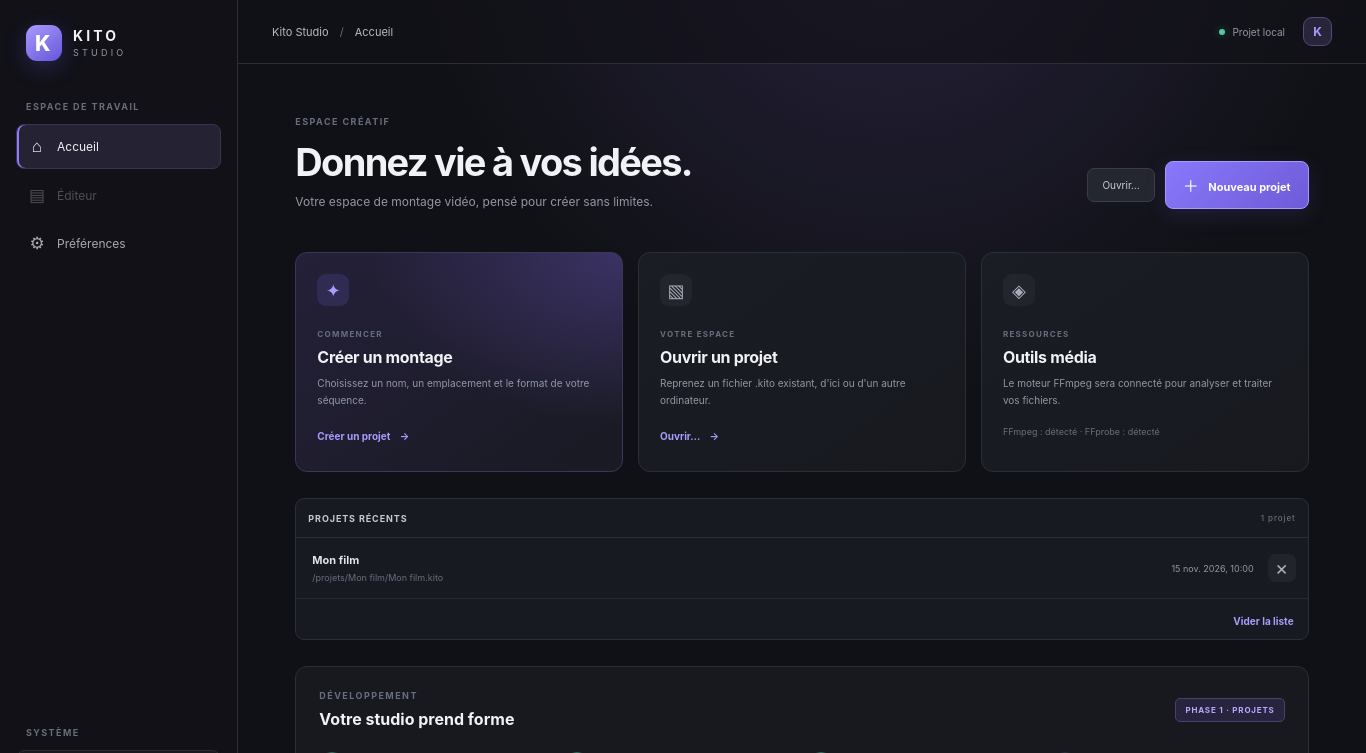
Test: enregistrement › le bouton Enregistrer est inactif quand rien n'a changé
This screenshot has width=1366, height=753.
Click the text "Mon film".
click(336, 560)  # box [312,553,359,567]
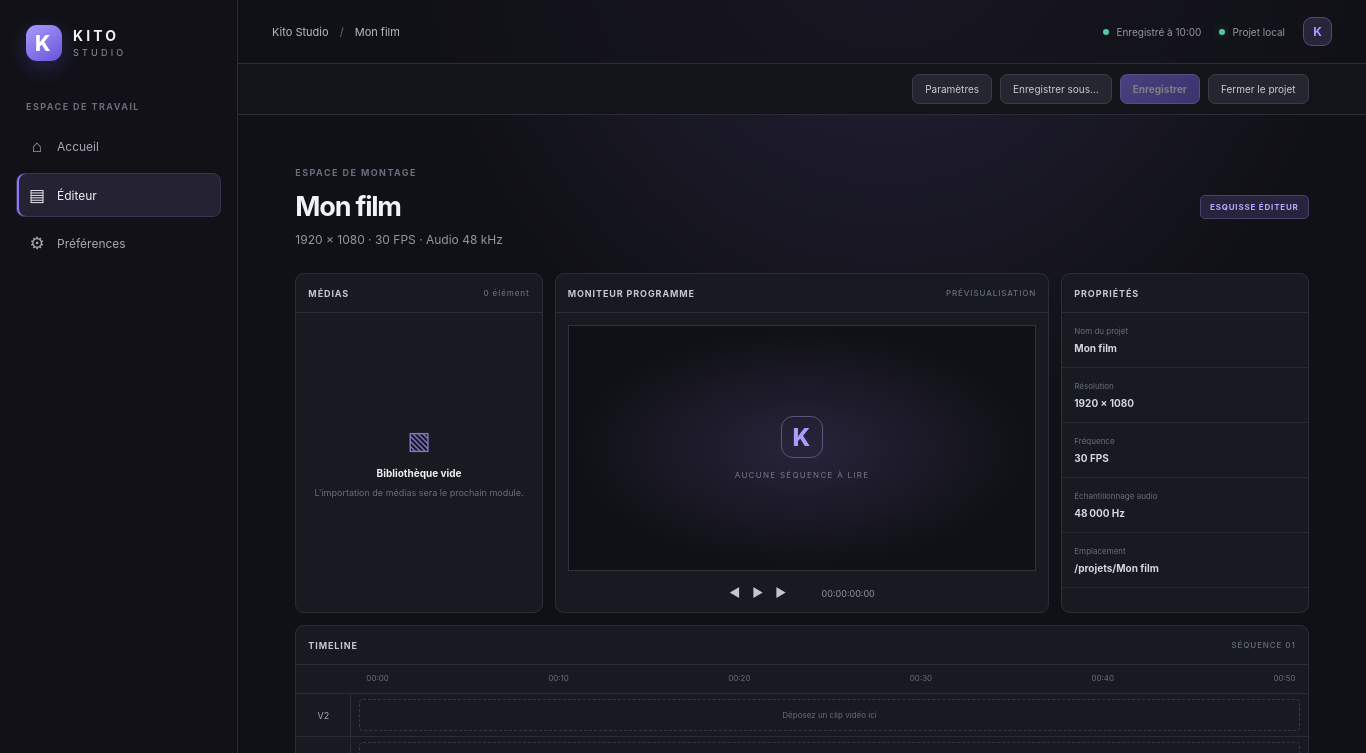
Expected: the heading "Mon film" is shown, [295,190,401,223]
Expected: the button "Enregistrer" is disabled, [1120,74,1200,104]
